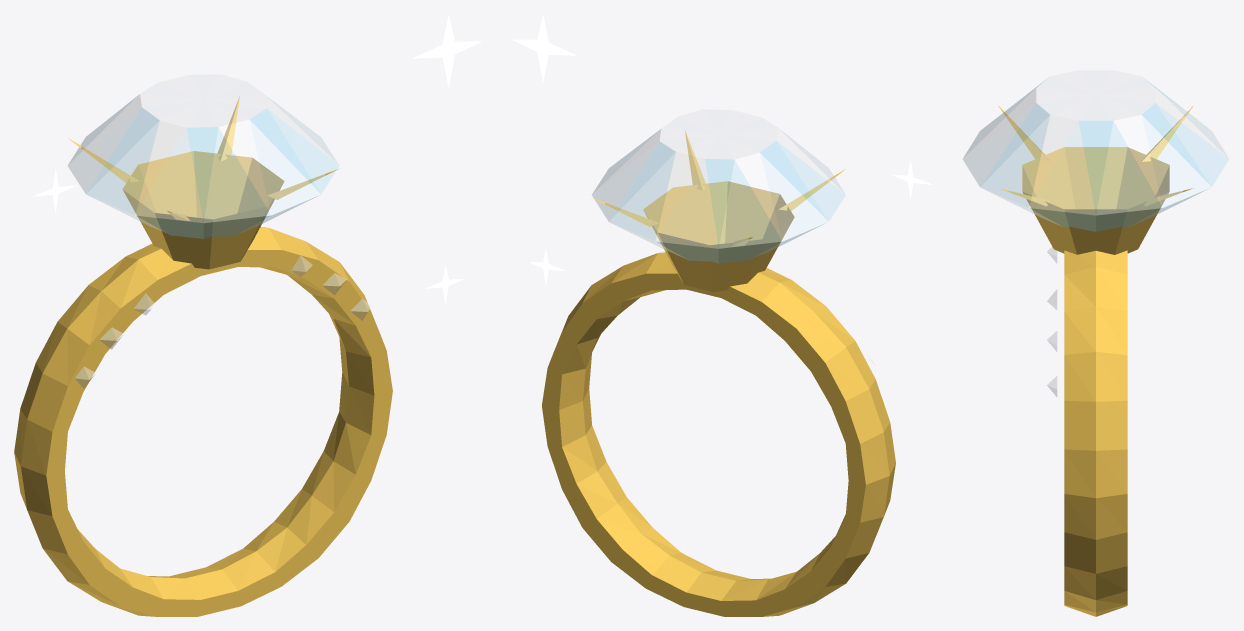
File: diamond-ring-3d.glb
3 views of the same model, side by side, from view 1: azimuth 30°, elevation 25°; view 2: azimuth 150°, elevation 25°; view 3: azimuth 270°, elevation 25° (orthographic). The views are drawn at different scales.
Bounding box in the file's own units: 2.76 × 3.29 × 1.44.
